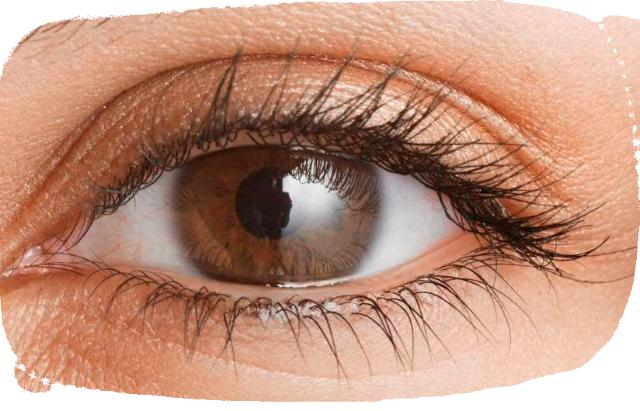eye: (174, 144, 386, 282)
